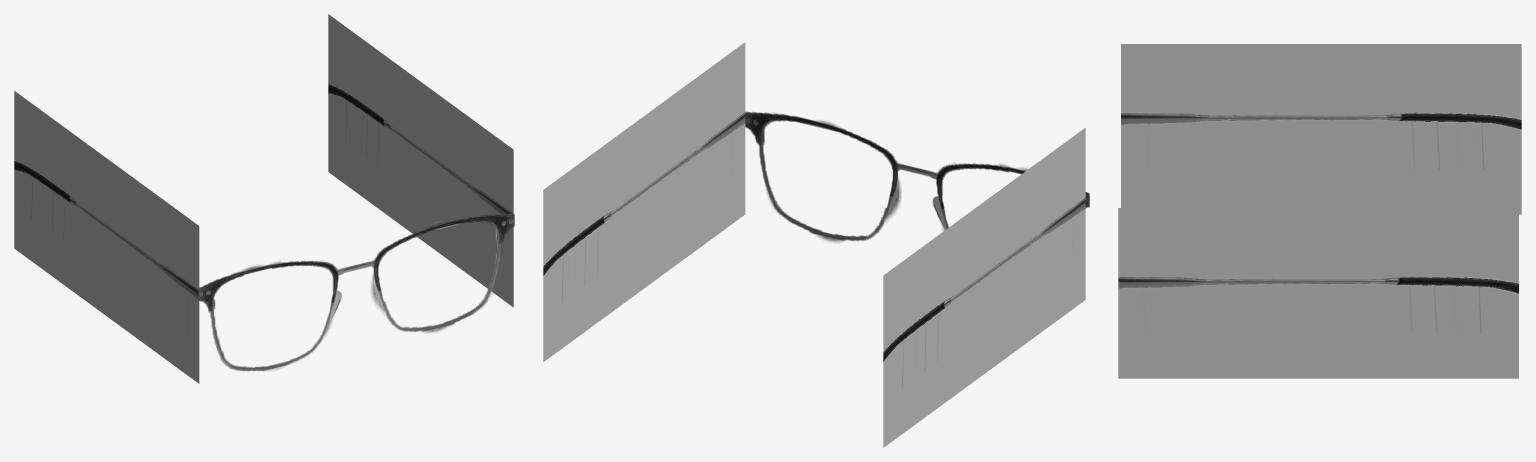
Rendered from times-explorer_f4.glb.
3 views of the same model, side by side, from view 1: azimuth 30°, elevation 25°; view 2: azimuth 150°, elevation 25°; view 3: azimuth 270°, elevation 25° (orthographic). The views are drawn at different scales.
Visible parts, largest first — view 1: Right, Left, Front; view 2: Right, Left, Front; view 3: Left, Right.
Boxes of the visible parts, x1,y1,x2,y2 form: Right: (14,91,199,383); Left: (328,14,513,307); Front: (198,213,514,371); Right: (883,128,1085,447); Left: (543,42,745,361); Front: (745,111,1089,242); Left: (1118,208,1518,378); Right: (1121,44,1521,214).
Size of the model in its own units: 146 by 109 by 149.
4 materials, 4 textured.
